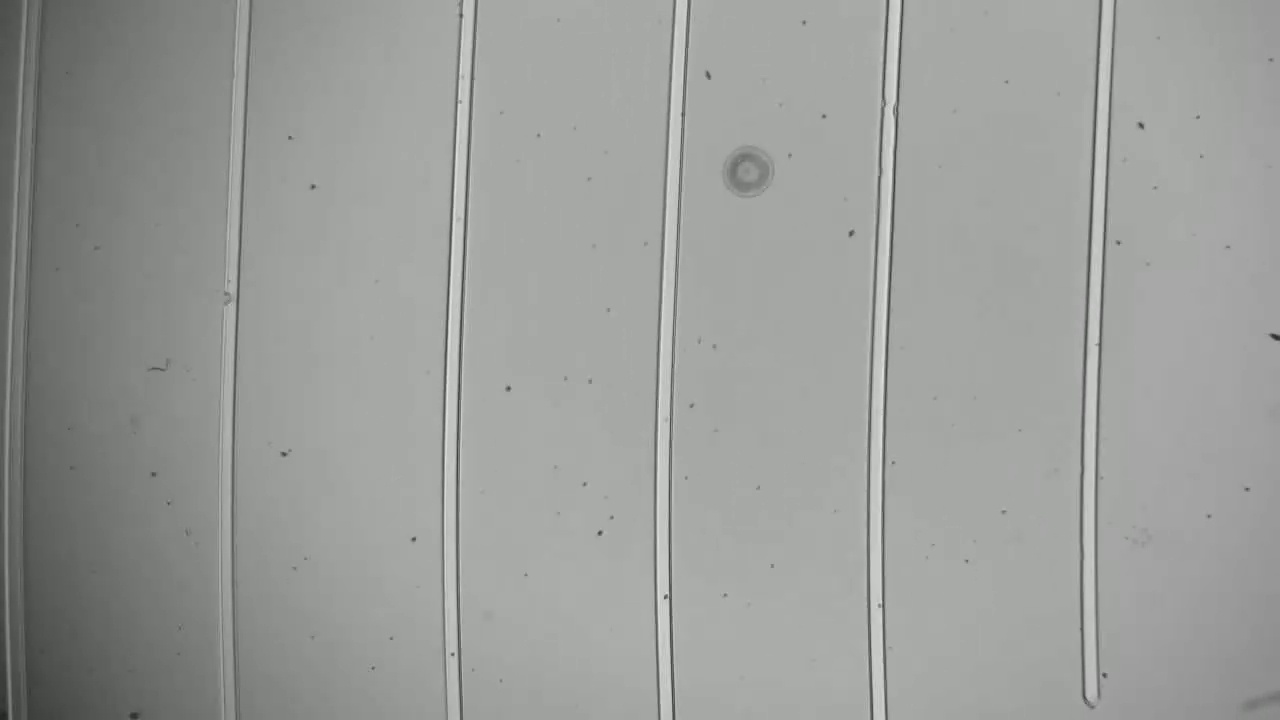edge_bite: (869, 89, 907, 130), (216, 282, 247, 314)
